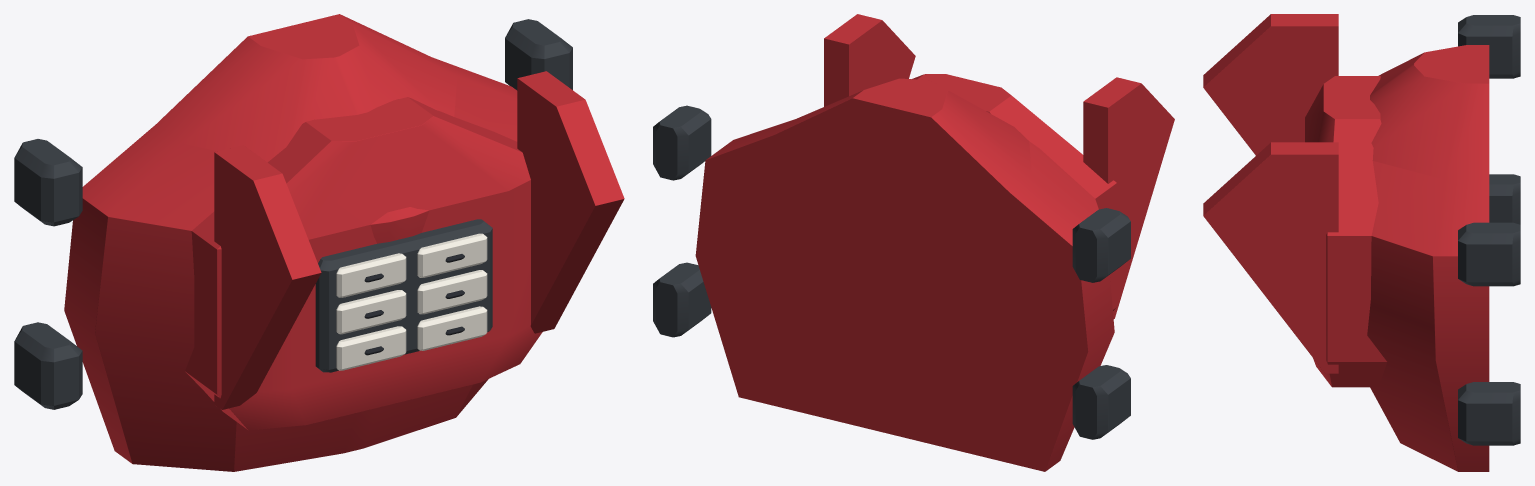
Rendered from ShoulderFront_Set07_Salvo.fbx.
3 views of the same model, side by side, from view 1: azimuth 30°, elevation 25°; view 2: azimuth 150°, elevation 25°; view 3: azimuth 270°, elevation 25° (orthographic). The views are drawn at different scales.
Parts seen in each view (by area): view 1: ShoulderFront_Set07_Salvo; view 2: ShoulderFront_Set07_Salvo; view 3: ShoulderFront_Set07_Salvo.
Boxes of the visible parts, x1,y1,x2,y2 form: ShoulderFront_Set07_Salvo: (14, 14, 624, 471); ShoulderFront_Set07_Salvo: (653, 14, 1174, 471); ShoulderFront_Set07_Salvo: (1203, 14, 1520, 471).
Bounding box in the file's own units: 0.51 × 0.35 × 0.3036.
